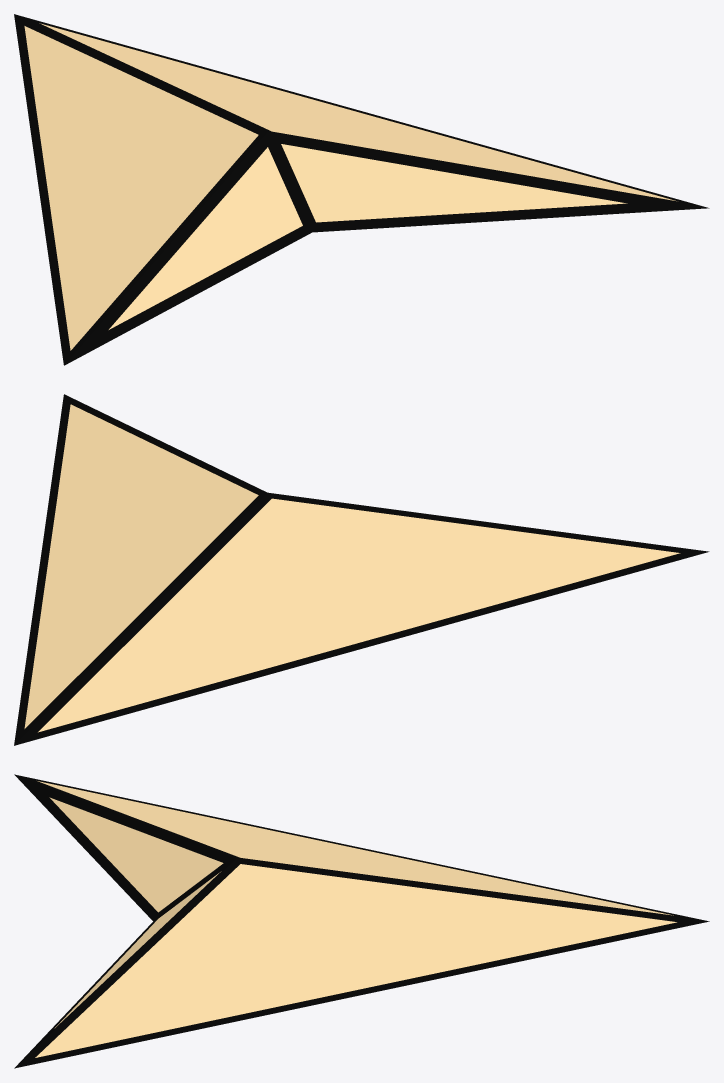
Rendered from LocationMarker_o.glb.
3 renders of one model, top to bottom at view 1: azimuth 30°, elevation 25°; view 2: azimuth 150°, elevation 25°; view 3: azimuth 270°, elevation 25°, orthographic. The views are drawn at different scales.
Parts seen in each view (by area): view 1: /LocationMarker_v1/Body1, /LocationMarker_v1/Body2; view 2: /LocationMarker_v1/Body1, /LocationMarker_v1/Body2; view 3: /LocationMarker_v1/Body1, /LocationMarker_v1/Body2.
Boxes of the visible parts, x1,y1,x2,y2 form: /LocationMarker_v1/Body1: (24,23,676,350); /LocationMarker_v1/Body2: (14,14,709,365); /LocationMarker_v1/Body1: (24,404,680,732); /LocationMarker_v1/Body2: (14,394,709,745); /LocationMarker_v1/Body1: (35,781,676,1057); /LocationMarker_v1/Body2: (14,774,709,1068).
Size of the model in its own units: 50.22 by 5.02 by 50.22.
